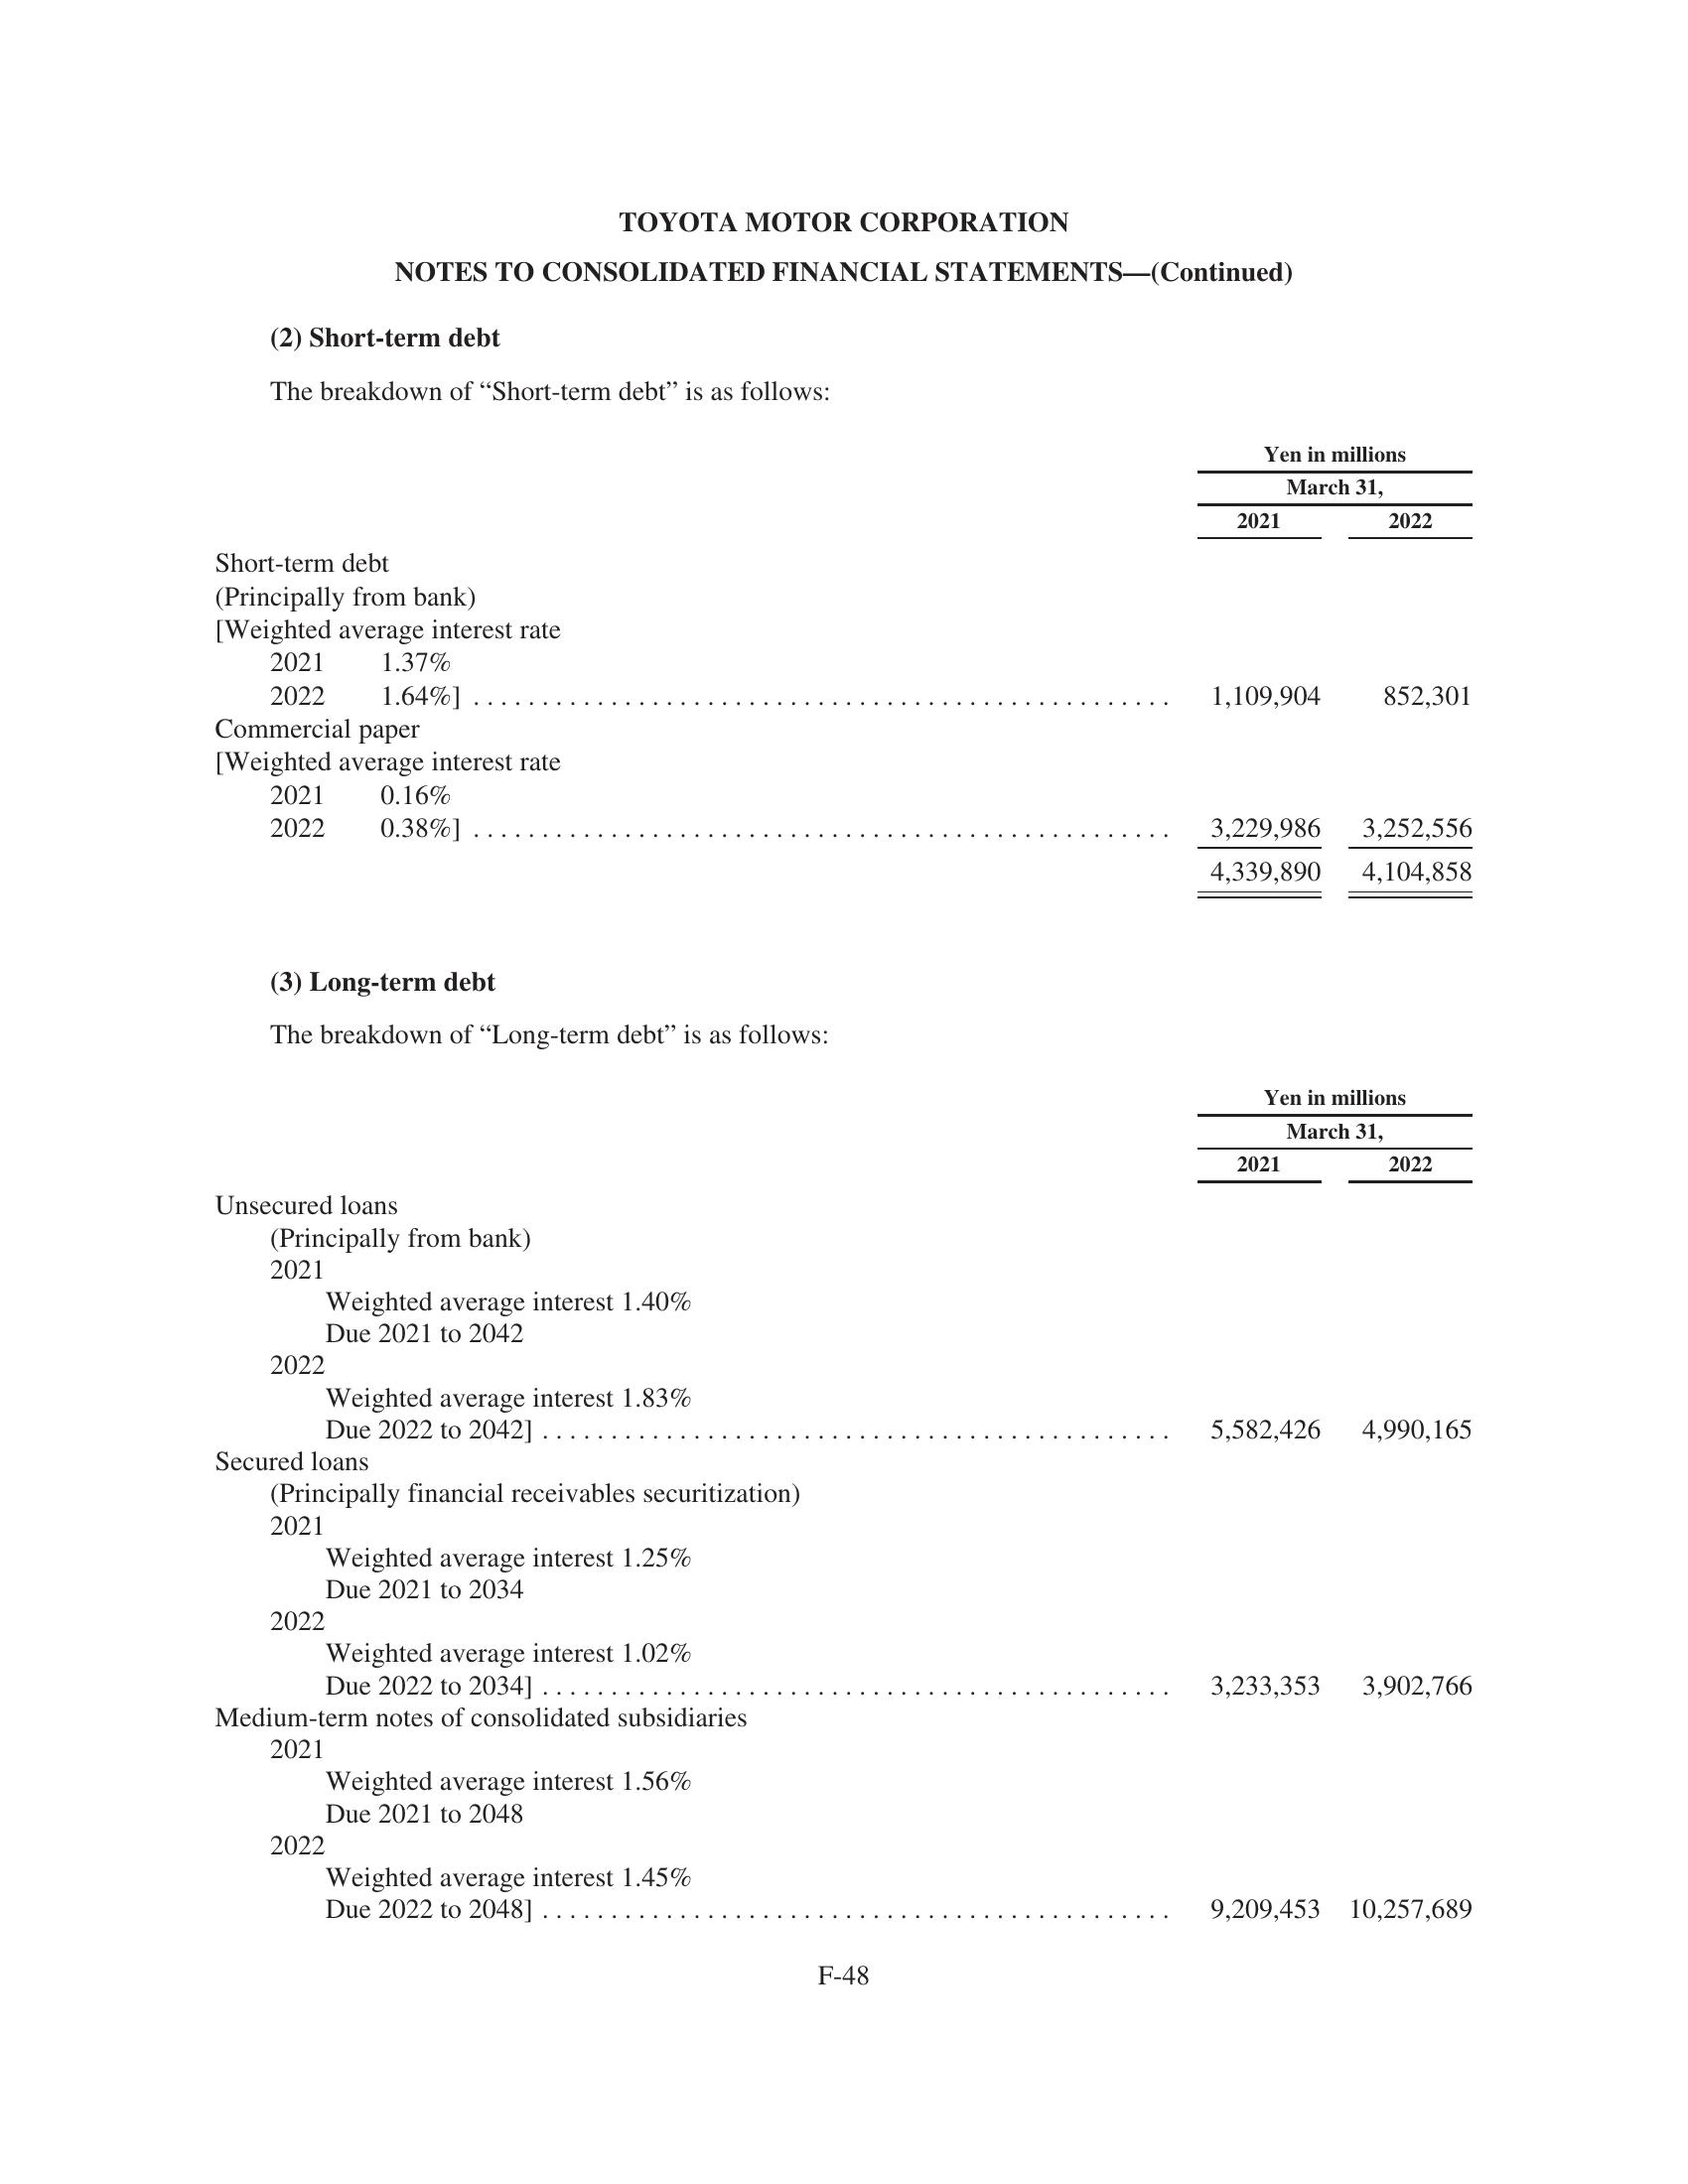Footer: (0, 1946, 1688, 2184)
Header: (0, 0, 1688, 188)
Table: (165, 1018, 1509, 1936), (154, 422, 1500, 915)
